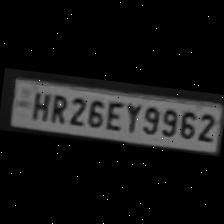2: (64, 92, 88, 127), (194, 110, 218, 144)
6: (82, 96, 106, 130), (174, 107, 198, 141)
9: (138, 101, 161, 136), (156, 104, 178, 138)
E: (102, 96, 125, 132)
H: (26, 88, 50, 122)
R: (46, 90, 68, 125)
Y: (120, 99, 141, 134)
